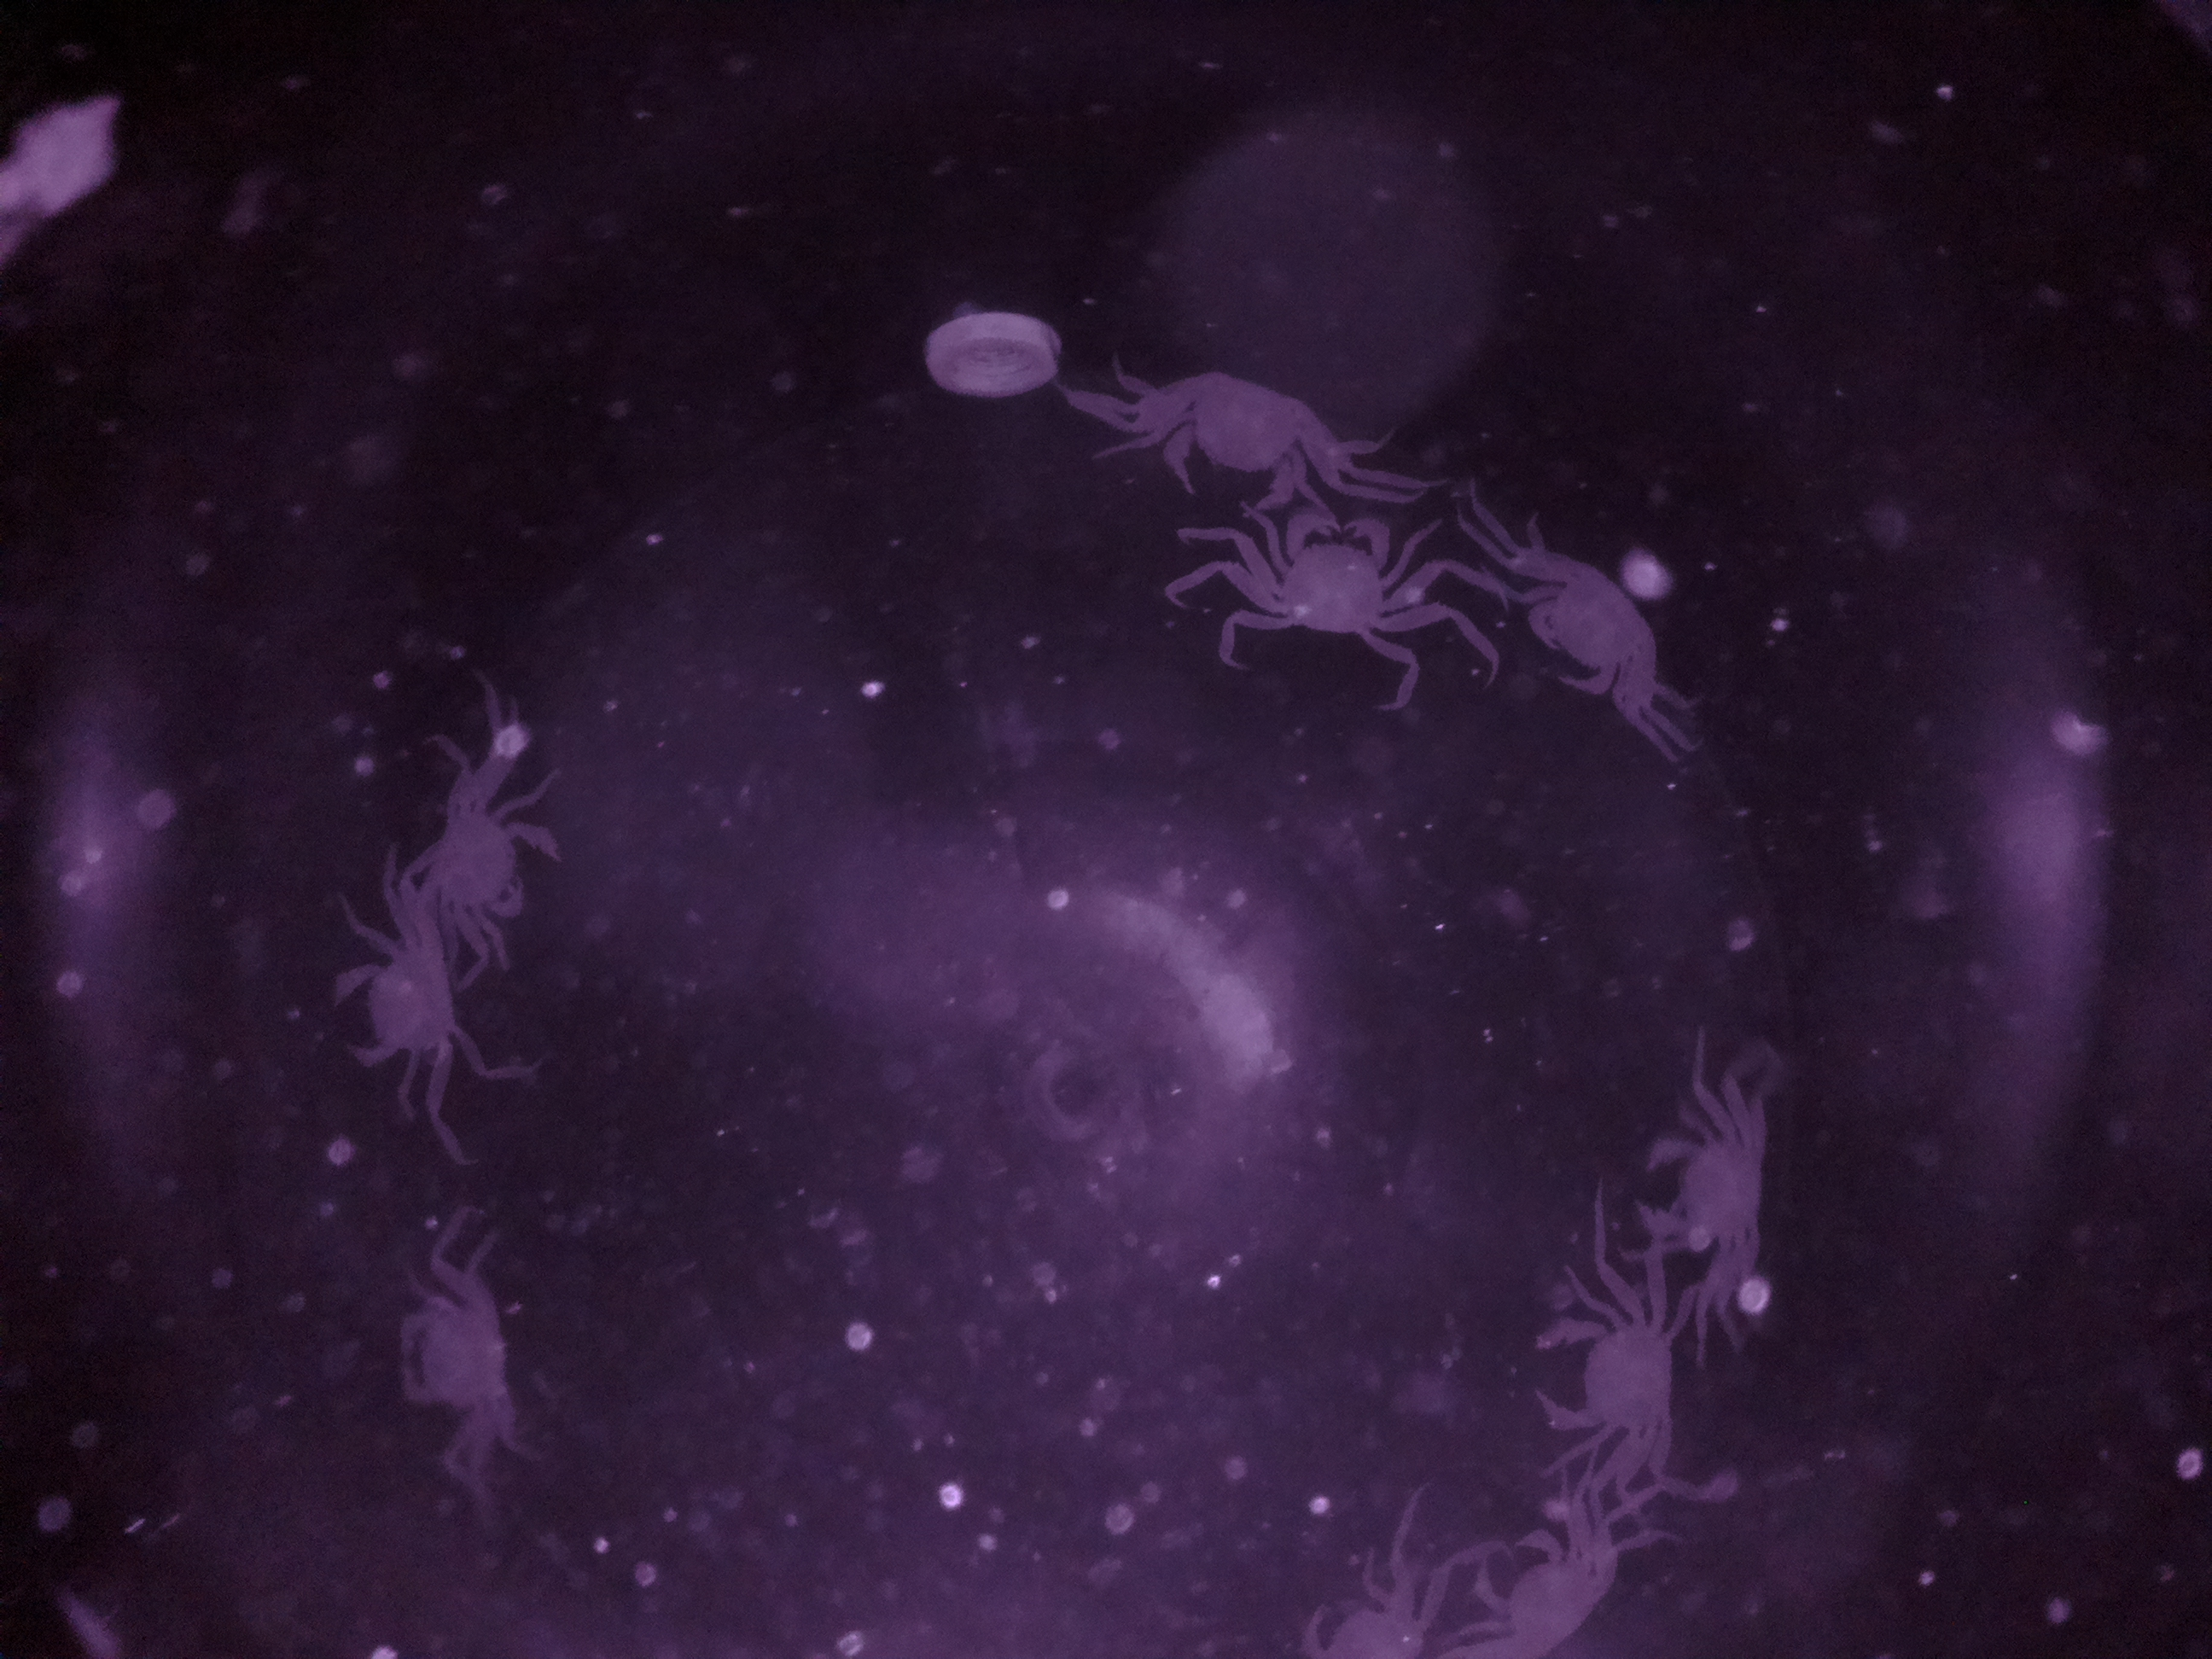Crab: (1505, 1290, 1709, 1455), (1625, 1086, 1787, 1274), (1507, 533, 1674, 713), (1233, 504, 1425, 653), (326, 922, 475, 1100), (1458, 1495, 1616, 1659)
